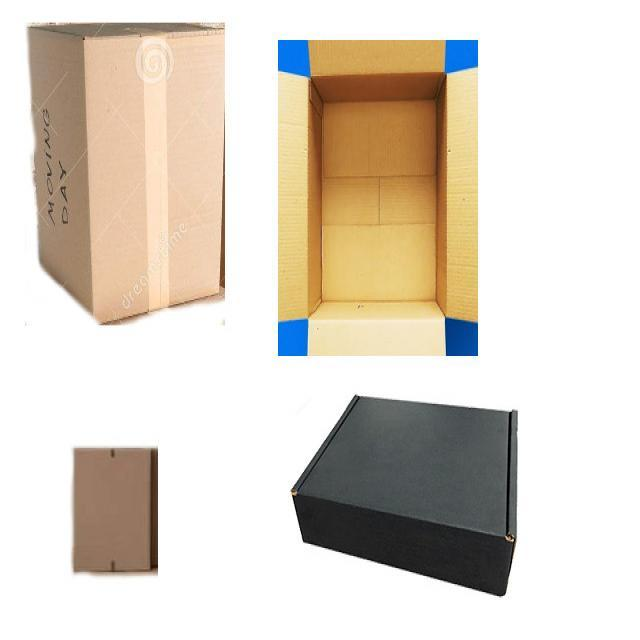box: (32, 20, 216, 316), (293, 59, 460, 338), (292, 394, 517, 594), (71, 447, 151, 572)
